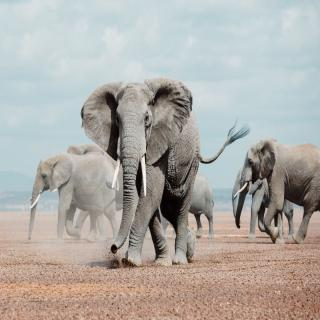Elephant: (78, 73, 235, 271), (233, 121, 320, 246), (19, 146, 124, 248)
